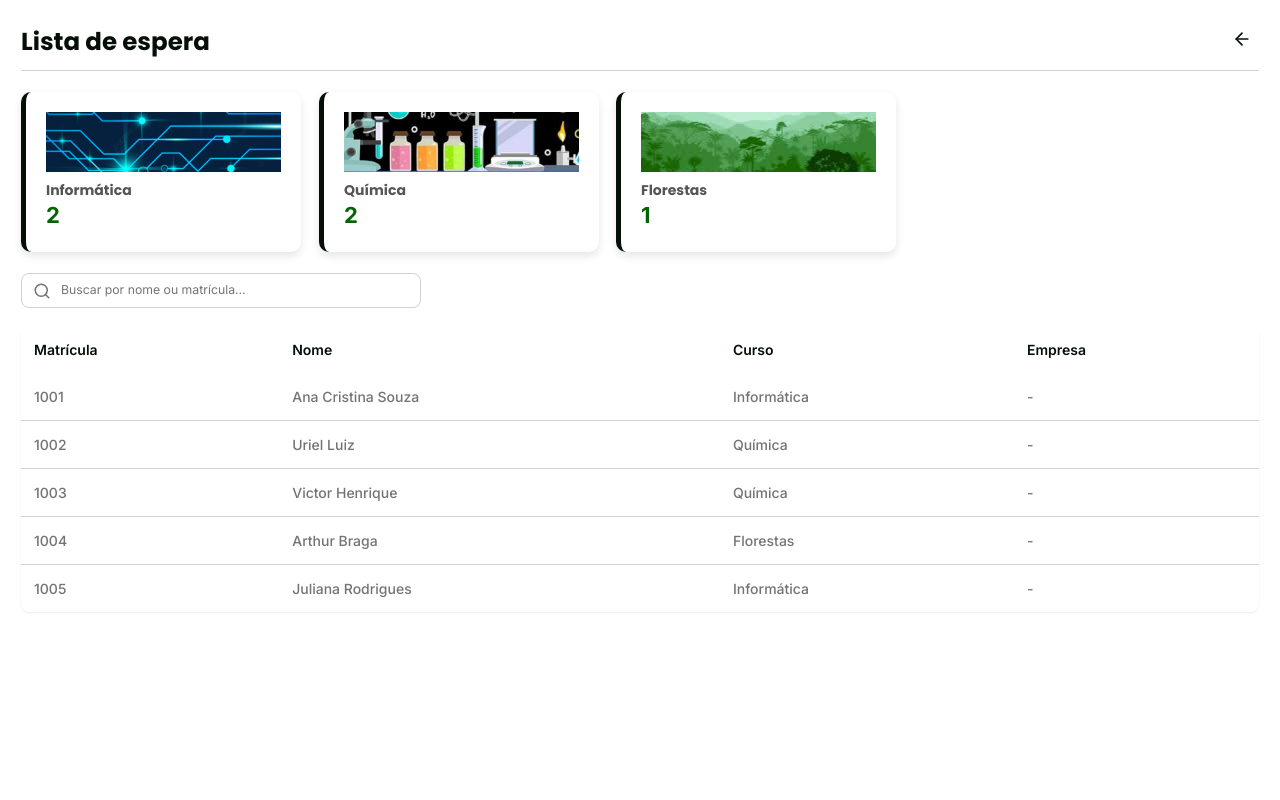
it: ListaEspera › remove o filtro ao clicar novamente no mesmo card
Expected: the number of rows is 6, [21,326,1259,372]; [21,372,1259,420]; [21,420,1259,468]; [21,468,1259,516]; [21,516,1259,564]; [21,564,1259,612]
Click the button with aria-label "Filtrar por Florestas": (756, 172) [616,92,896,252]
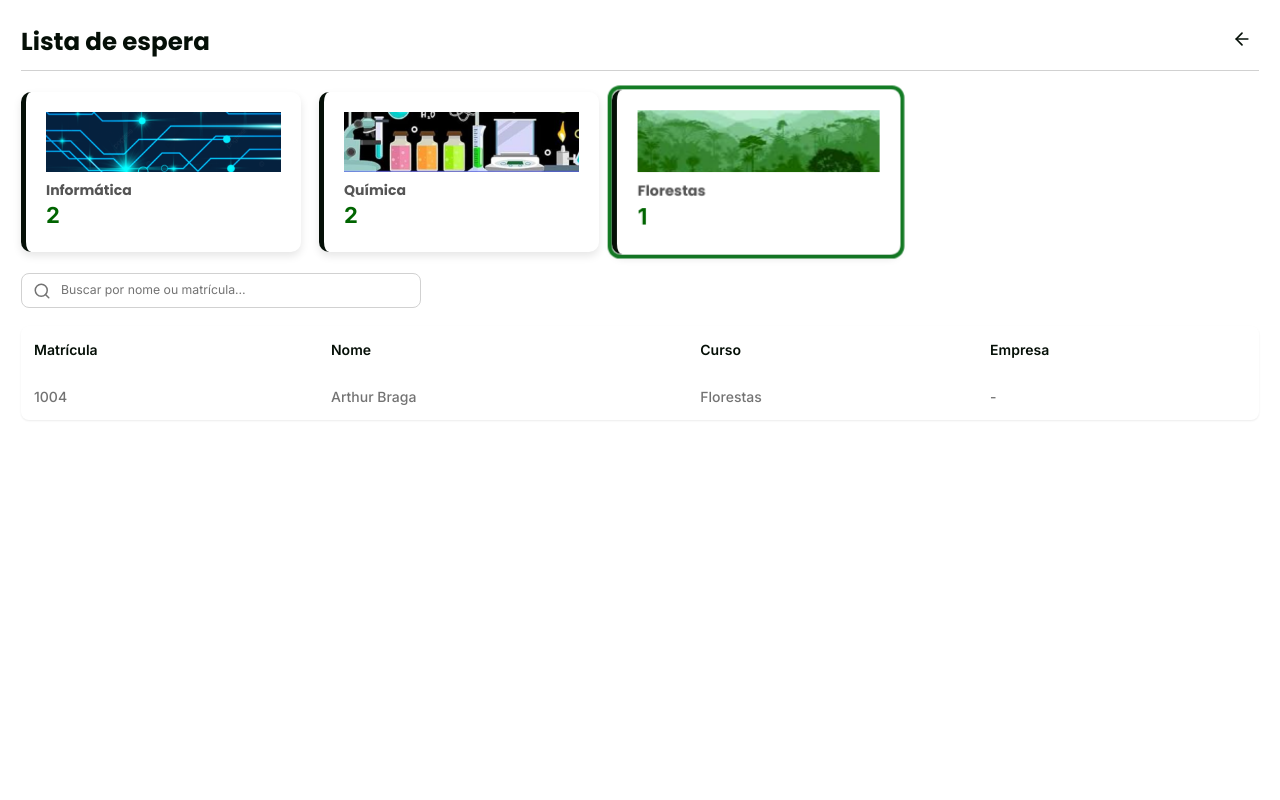
Expected: the text "Ana Cristina Souza" is gone
Click the button with aria-label "Filtrar por Florestas": (756, 172) [612,90,900,254]
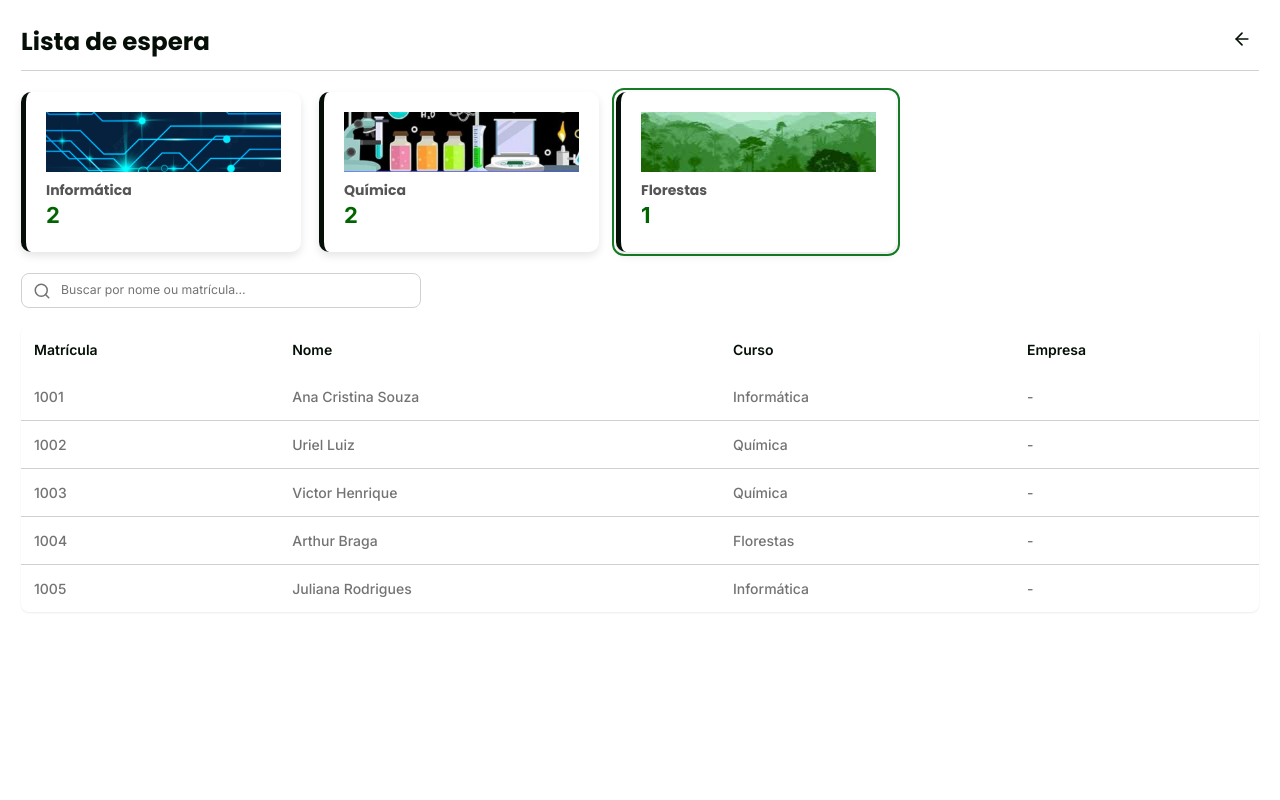
Expected: the text "Ana Cristina Souza" is shown, [279,372,720,420]
